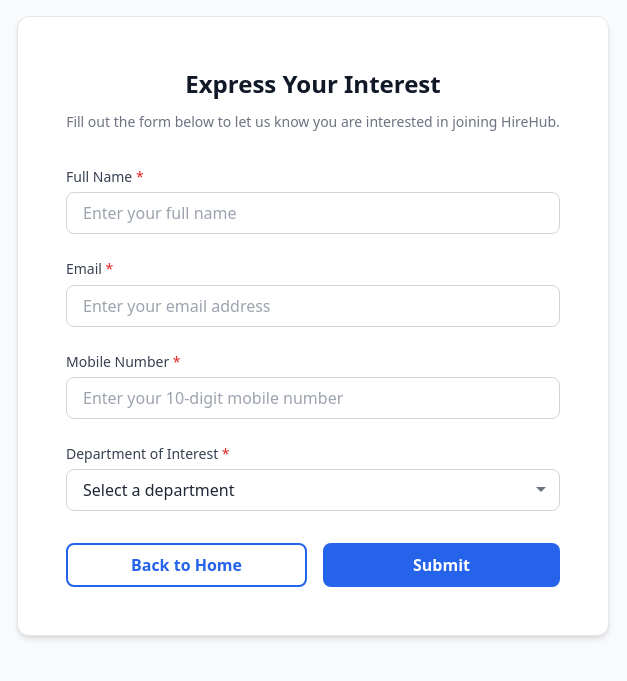
Test case: InterestForm › validation for empty fields › shows error for empty Mobile Number on blur
The image size is (627, 681).
Click the field labelled "Mobile Number".
click(313, 398)  # box [66,377,560,419]
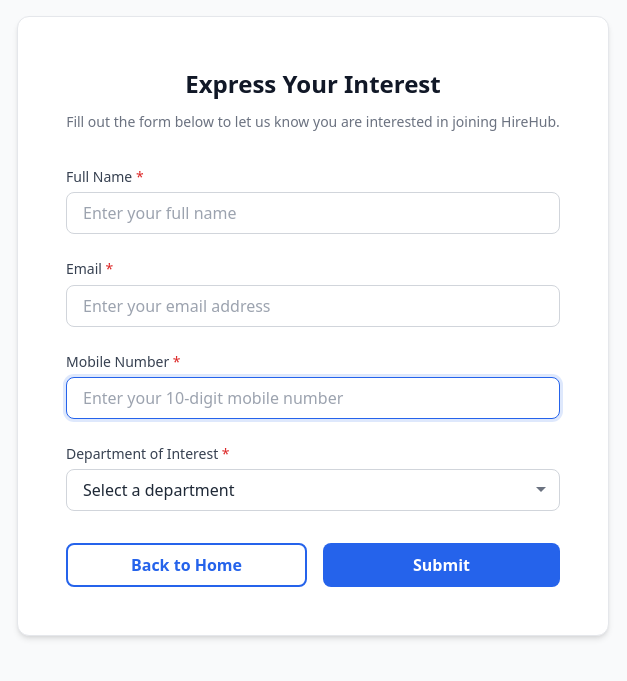
Press Tab
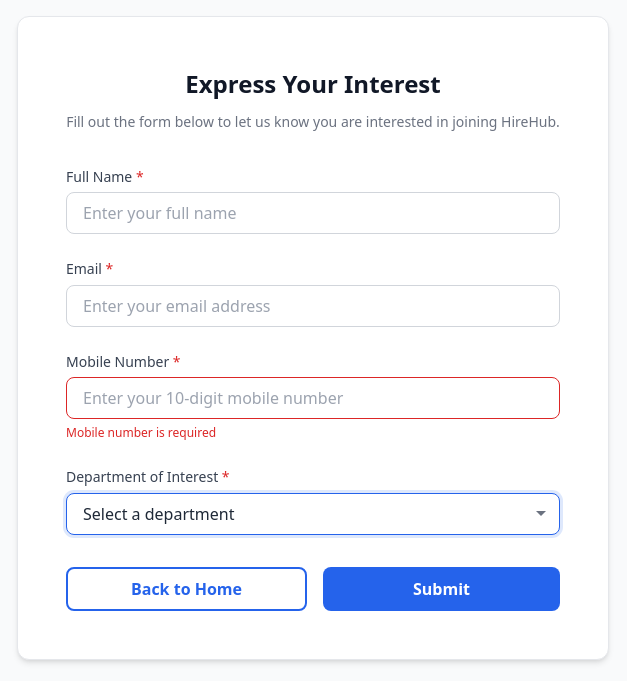
expect the text "Mobile number is required" is shown: met, box [66,424,216,441]
